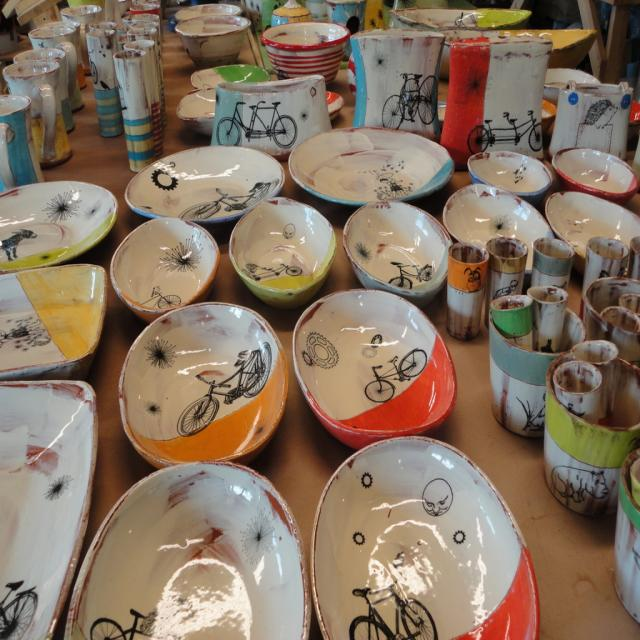non-organic waste: (78, 441, 312, 640), (311, 475, 541, 640), (284, 277, 452, 445), (137, 323, 304, 455), (103, 203, 234, 335), (230, 168, 338, 305)
